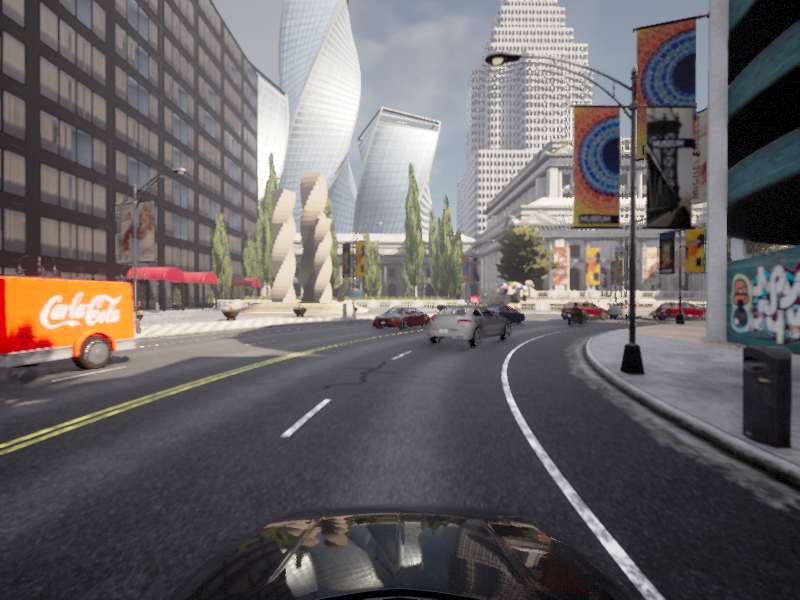vehicle: (420, 304, 514, 350), (368, 306, 432, 332), (468, 304, 529, 328), (708, 301, 780, 320), (650, 301, 714, 321), (603, 301, 663, 320), (556, 301, 611, 321), (657, 303, 722, 318), (563, 302, 590, 326)
